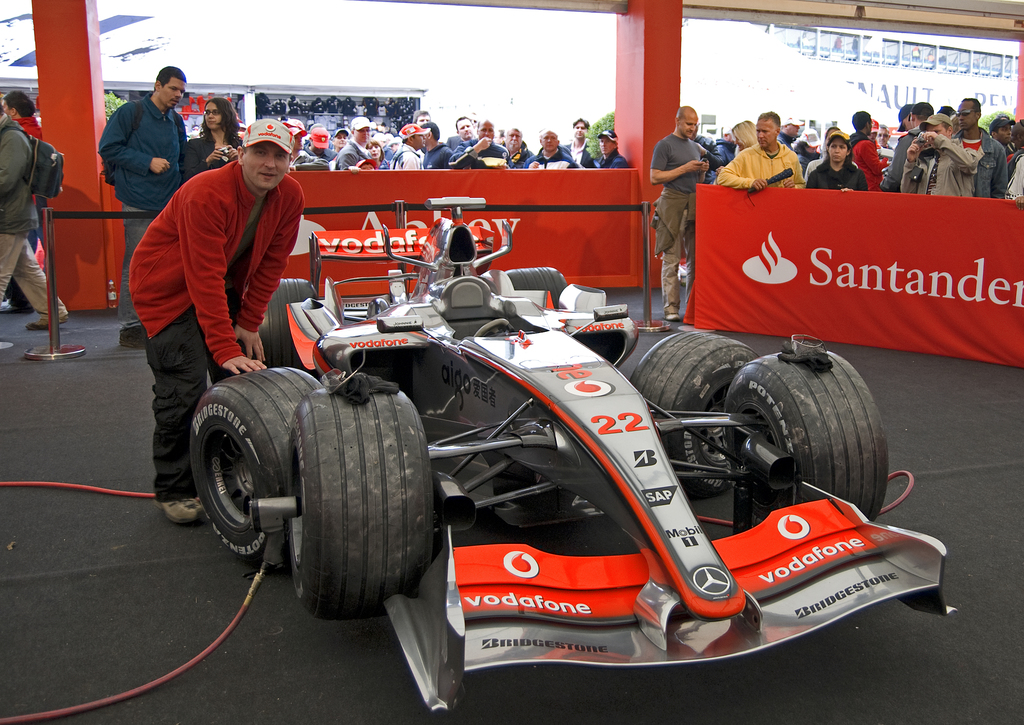person: (96, 64, 195, 287)
